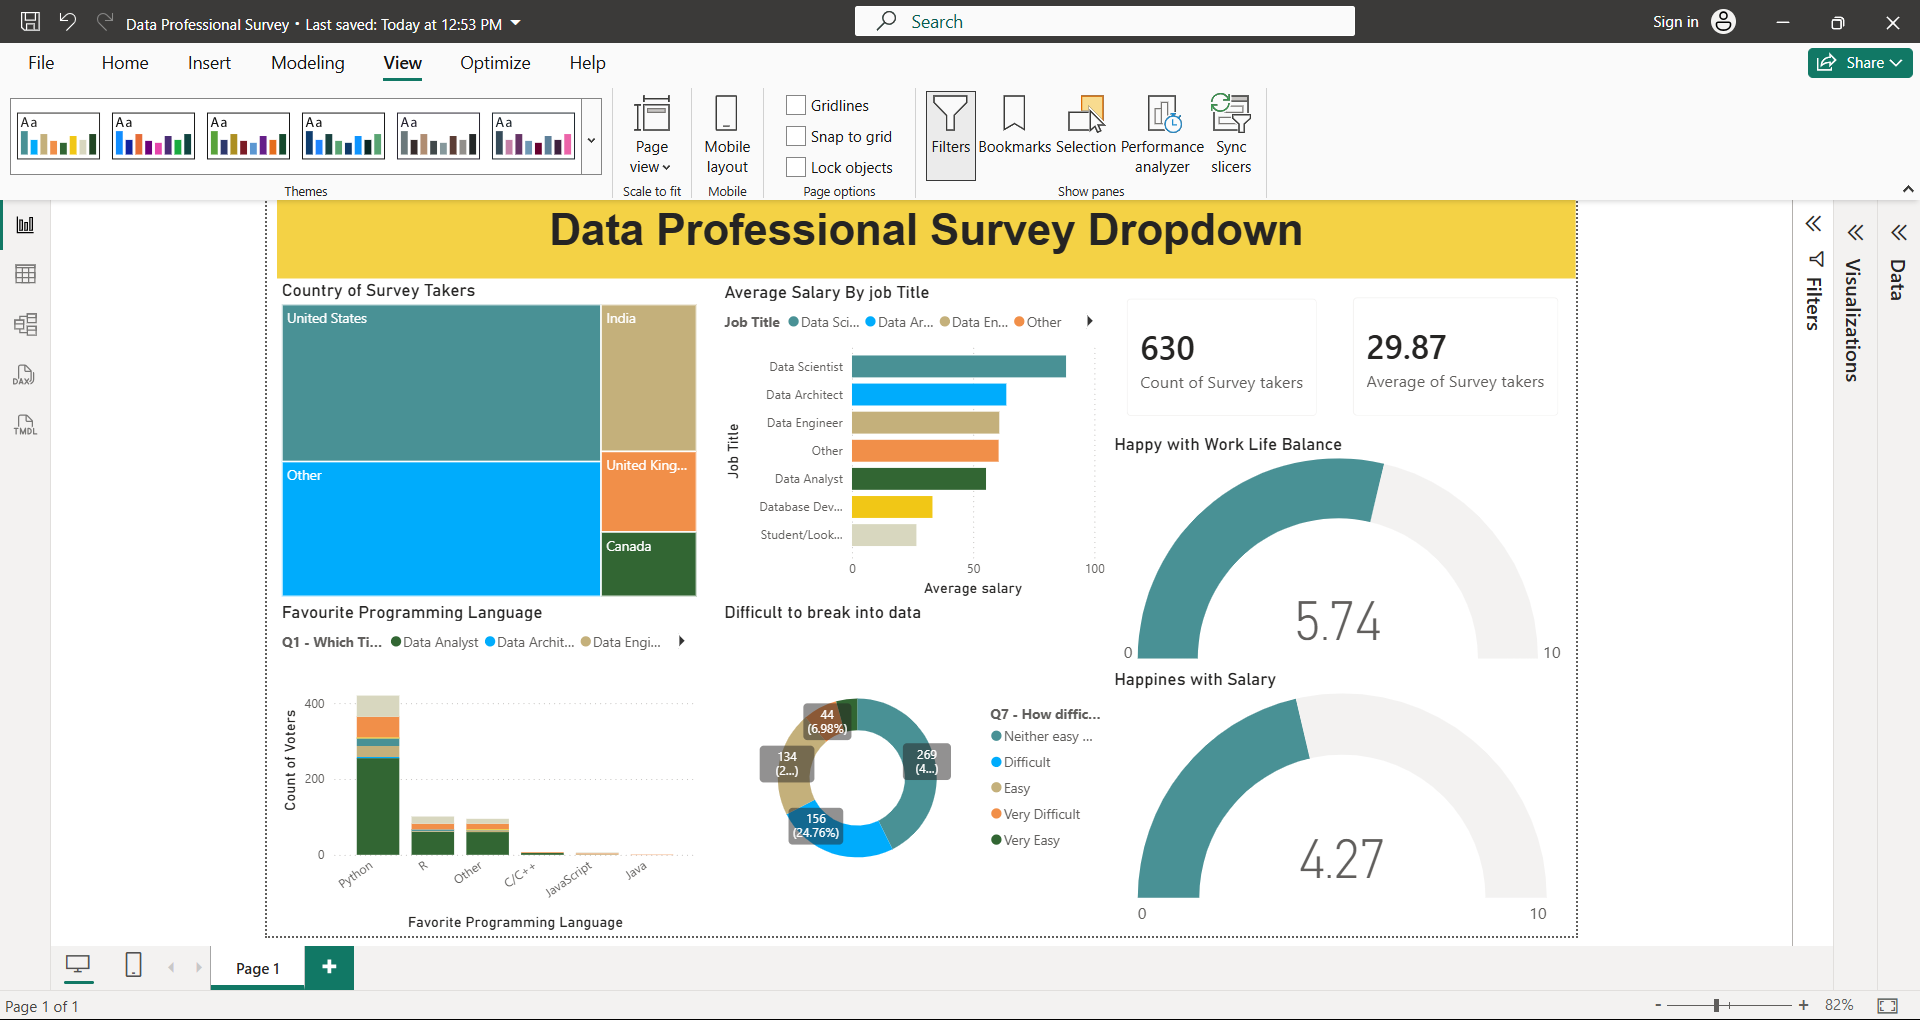

What the dashboard file says about the page in this screenshot:
{"tool":"powerbi","page":{"name":"Page 1","canvas":[1280,720],"ordinal":0},"visuals":[{"type":"textbox","box":[9.6,0,1270.7,76.8],"z":0},{"type":"cardVisual","fields":{"Data":["CountNonNull(Data Professional Survey.Unique ID)"]},"box":[824.4,79.3,220.6,149.3],"z":1000},{"type":"cardVisual","fields":{"Data":["Avg(Data Professional Survey.Q10 - Current Age)"]},"box":[1044.9,78,235.3,150.6],"z":2000},{"type":"barChart","title":"Average Salary By job Title","fields":{"Category":["Data Professional Survey.Q1 - Which Title Best Fits your Current Role?.1"],"Y":["Avg(Data Professional Survey.average salary)"],"Series":["Data Professional Survey.Q1 - Which Title Best Fits your Current Role?.1"]},"box":[442.4,79.3,381.9,313.3],"z":3000},{"type":"columnChart","title":"Favourite Programming Language","fields":{"Category":["Data Professional Survey.Q5 - Favorite Programming Language.1"],"Y":["CountNonNull(Data Professional Survey.Unique ID)"],"Series":["Data Professional Survey.Q1 - Which Title Best Fits your Current Role?.1"]},"box":[9.4,392.7,415.6,326.8],"z":4000},{"type":"treemap","title":"Country of Survey Takers","fields":{"Group":["Data Professional Survey.Q11 - Which Country do you live in?.1"],"Values":["CountNonNull(Data Professional Survey.Q11 - Which Country do you live in?.1)"]},"box":[9.4,78,415.6,314.7],"z":5000},{"type":"gauge","title":"Happy with Work Life Balance","fields":{"Y":["Avg(Data Professional Survey.Q6 - How Happy are you in your Current Position with the following? (Work/Life Balance))"],"MinValue":["Min(Data Professional Survey.Q6 - How Happy are you in your Current Position with the following? (Work/Life Balance))"],"MaxValue":["Max(Data Professional Survey.Q6 - How Happy are you in your Current Position with the following? (Work/Life Balance))"]},"box":[824.4,228.6,455.9,230],"z":6000},{"type":"gauge","title":"Happines with Salary","fields":{"Y":["Avg(Data Professional Survey.Q6 - How Happy are you in your Current Position with the following? (Salary))"],"MinValue":["Min(Data Professional Survey.Q6 - How Happy are you in your Current Position with the following? (Salary))"],"MaxValue":["Max(Data Professional Survey.Q6 - How Happy are you in your Current Position with the following? (Salary))"]},"box":[824.4,458.6,455.9,260.9],"z":7000},{"type":"donutChart","title":"Difficult to break into data","fields":{"Category":["Data Professional Survey.Q7 - How difficult was it for you to break into Data?"],"Y":["CountNonNull(Data Professional Survey.Q7 - How difficult was it for you to break into Data?)"]},"box":[442.4,392.7,381.9,326.8],"z":7001}]}

Visuals, with their boxes on the page's 1280x720 design canvas (x1, y1, x2, y2). These are canvas units, not pixel positions in the 1920x1020 screenshot, which may show the page scaled, cropped or inside an application window:
textbox: (left=10, top=0, right=1280, bottom=77)
cardVisual - CountNonNull(Data Professional Survey.Unique ID): (left=824, top=79, right=1045, bottom=229)
cardVisual - Avg(Data Professional Survey.Q10 - Current Age): (left=1045, top=78, right=1280, bottom=229)
"Average Salary By job Title" barChart: (left=442, top=79, right=824, bottom=393)
"Favourite Programming Language" columnChart: (left=9, top=393, right=425, bottom=720)
"Country of Survey Takers" treemap: (left=9, top=78, right=425, bottom=393)
"Happy with Work Life Balance" gauge: (left=824, top=229, right=1280, bottom=459)
"Happines with Salary" gauge: (left=824, top=459, right=1280, bottom=720)
"Difficult to break into data" donutChart: (left=442, top=393, right=824, bottom=720)
